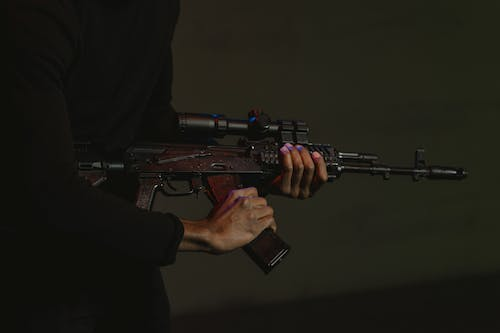gun: (72, 105, 471, 278)
